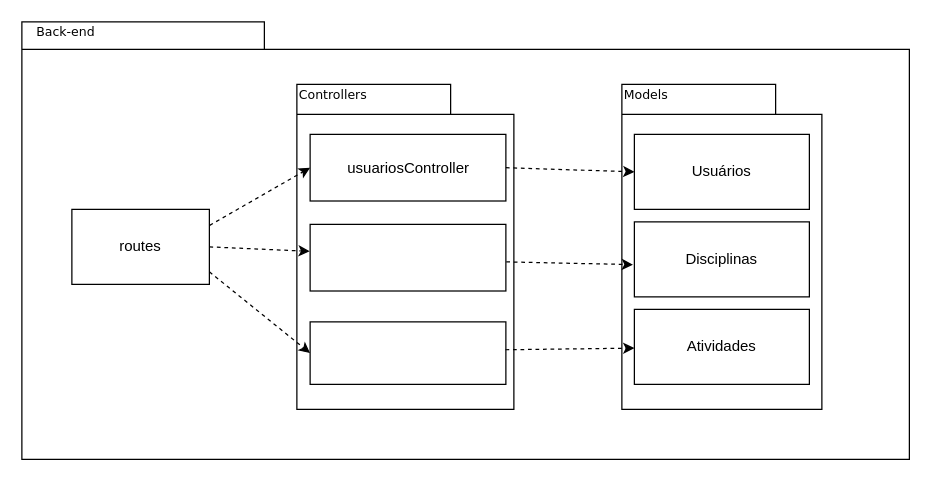
The diagram is 931 pixels wide and 481 high, and some of its shapes have lost their labels. Here are the shapes that lost their labels. From the top down, the centre of each, then its label:
At [407,257]: "disciplinasController".
At [407,352]: "atividadesController".
